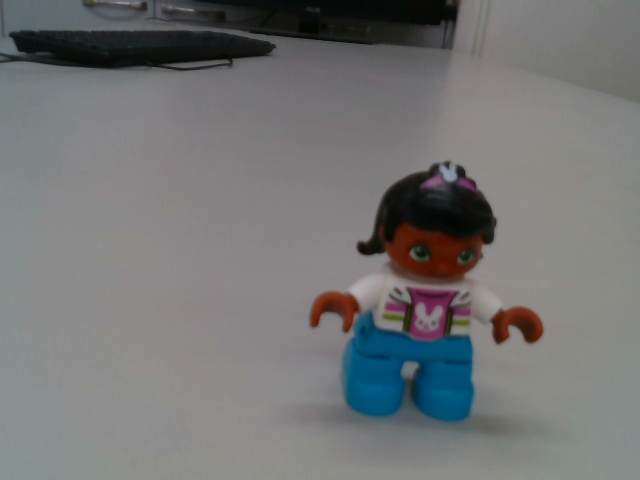people: (306, 161, 547, 425)
